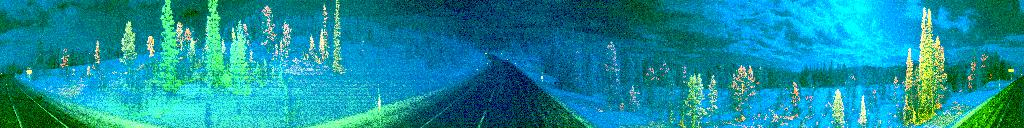pole: (374, 82, 384, 127), (997, 76, 1003, 94), (540, 69, 544, 84)
